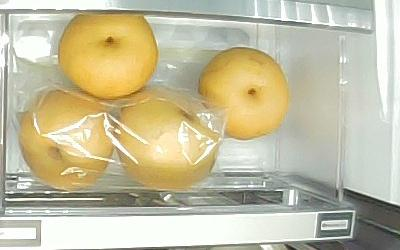pear: (58, 14, 160, 98), (198, 47, 289, 141)
pear_vinyl: (117, 88, 218, 189), (19, 90, 114, 190)
